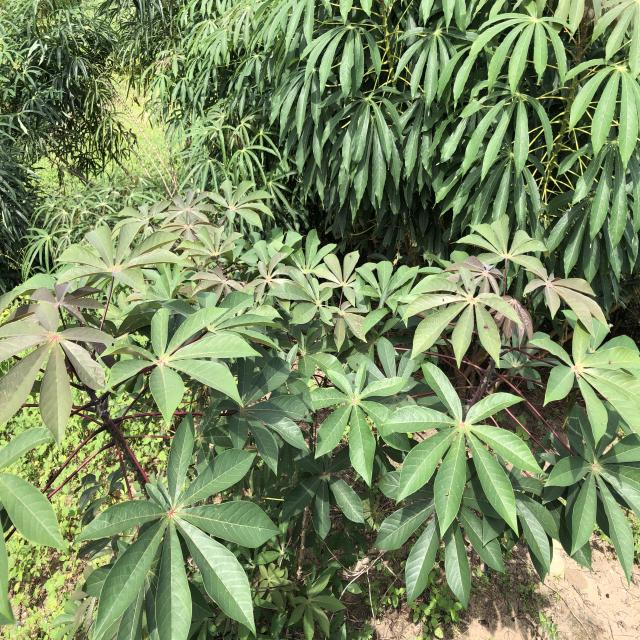Mosca: (604, 353, 620, 370), (438, 291, 451, 306), (481, 318, 493, 333), (300, 409, 310, 425), (442, 490, 453, 503), (344, 250, 354, 260)
